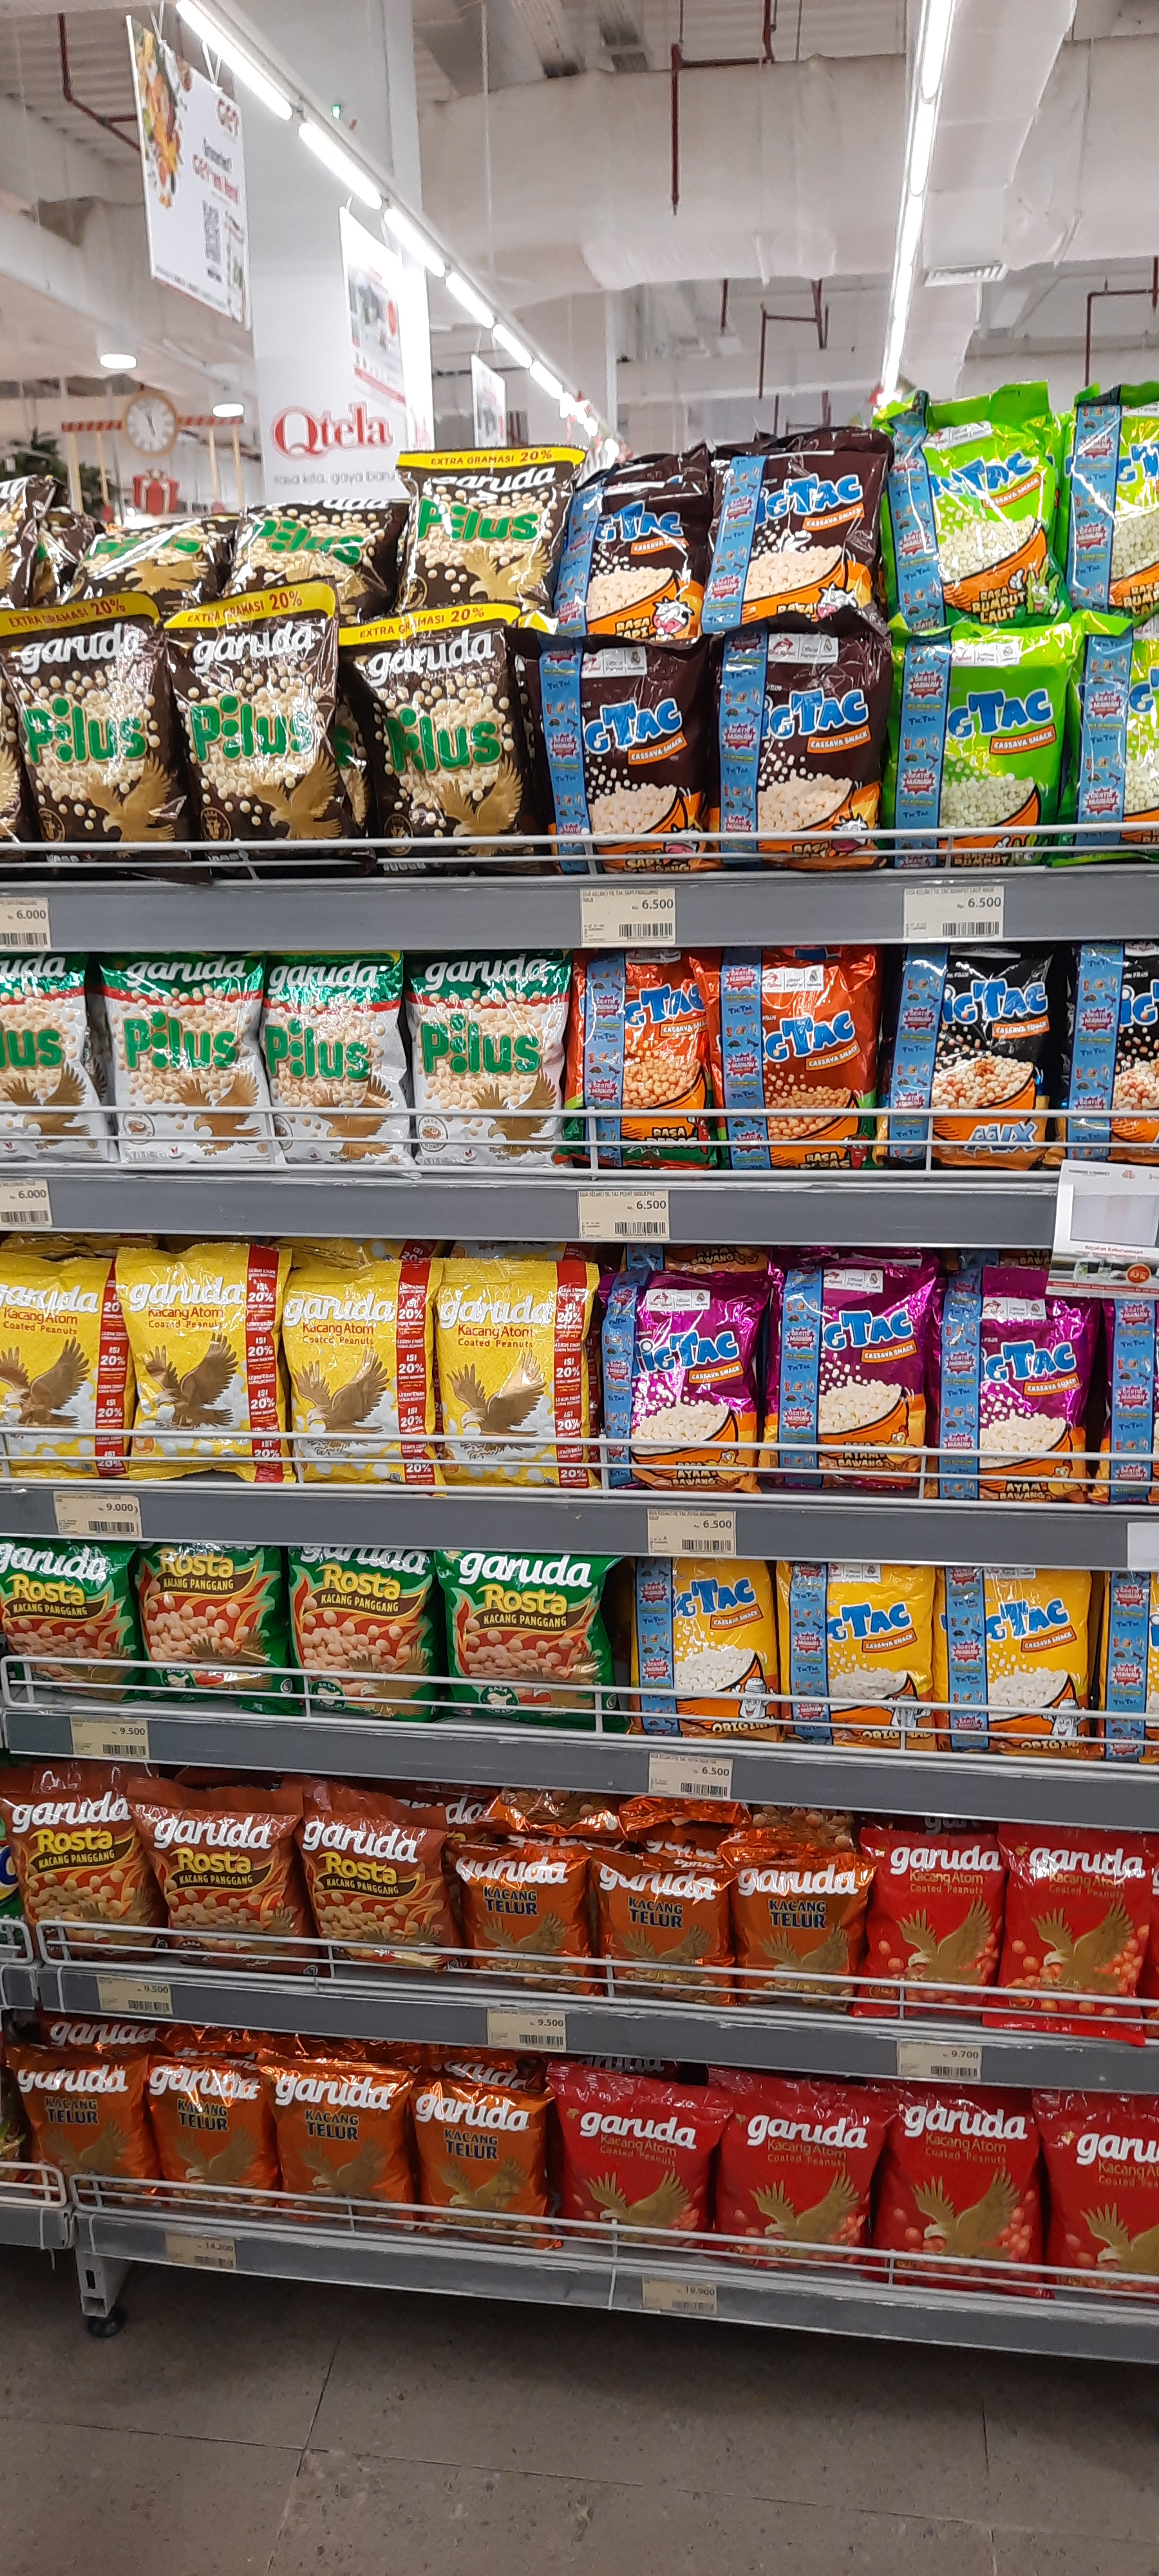90101111202100: (120, 1249, 287, 1480), (442, 1260, 599, 1487), (284, 1263, 433, 1485), (0, 1255, 118, 1479)
90101111301100: (882, 2085, 1038, 2295), (721, 2065, 877, 2275), (550, 2063, 709, 2256)
90101111302100: (1003, 1827, 1148, 2042), (862, 1828, 996, 2021)
90101111607100: (438, 1549, 616, 1732), (138, 1539, 287, 1713), (292, 1541, 435, 1720), (0, 1543, 133, 1704)
90101111615100: (131, 1782, 302, 1976), (302, 1810, 451, 1962)
90101111701100: (419, 2081, 548, 2247), (281, 2063, 410, 2228), (146, 2058, 276, 2223)
90101111702100: (729, 1858, 870, 2011), (593, 1851, 732, 2004), (448, 1845, 588, 1998)
90101151404200: (2, 595, 167, 871), (355, 614, 525, 867), (169, 596, 333, 854), (397, 444, 563, 614)
90101151604100: (414, 961, 561, 1168), (105, 954, 251, 1161), (261, 956, 407, 1163)
TicTacAyamBawang: (609, 1278, 763, 1492), (767, 1273, 921, 1487), (926, 1281, 1080, 1495)
TicTacMix: (885, 948, 1047, 1166)
TicTacOriginal: (936, 1564, 1090, 1753), (785, 1559, 928, 1745), (632, 1557, 773, 1743)
TicTacPedas: (566, 951, 712, 1168), (726, 950, 872, 1166)
TicTacRumputLaut: (895, 626, 1069, 862), (890, 393, 1064, 629)
TicTacSapiPanggang: (527, 657, 714, 869), (704, 647, 891, 859), (708, 437, 885, 637), (558, 447, 714, 651)
